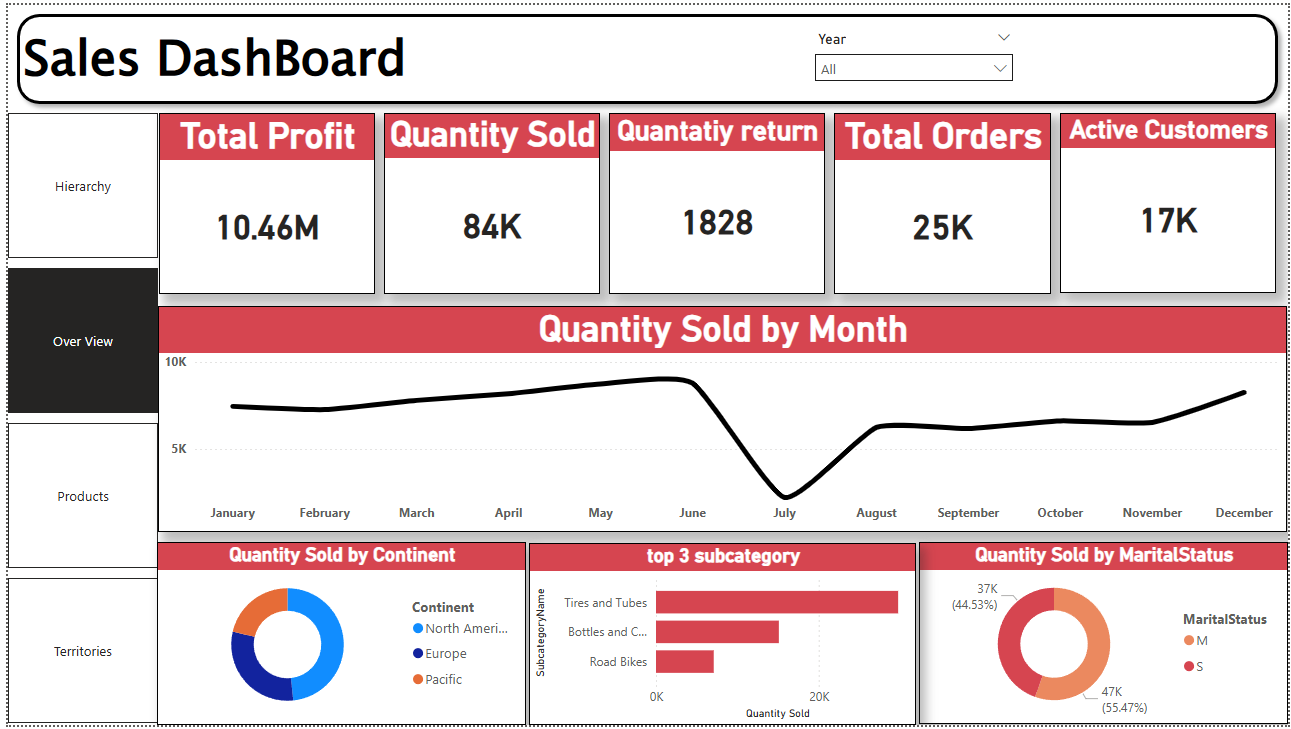

Layout of this report page (visuals, bound fields, positions):
{"tool":"powerbi","page":{"name":"Over View","canvas":[1280,720],"ordinal":1},"visuals":[{"type":"pageNavigator","box":[0,107.6,150.4,613.9],"z":0},{"type":"card","title":"Total Profit","fields":{"Values":["A Measurable Table.T.Profit"]},"box":[150.7,107.6,216.4,181],"z":1000},{"type":"card","title":"Quantity Sold","fields":{"Values":["A Measurable Table.Quantity Sold"]},"box":[376.1,107.6,216,181],"z":2000},{"type":"card","title":"Quantatiy return","fields":{"Values":["A Measurable Table.Quantity Return"]},"box":[601.1,107.6,216,181],"z":3000},{"type":"card","title":"Total Orders","fields":{"Values":["A Measurable Table.T.Orders"]},"box":[826.1,107.6,216.4,181],"z":4000},{"type":"card","title":"Active Customers","fields":{"Values":["A Measurable Table.Active Customers"]},"box":[1051.5,107.7,216,180],"z":5000},{"type":"lineChart","fields":{"Category":["Dim Calendar.Date.Variation.Date Hierarchy.Month"],"Y":["A Measurable Table.Quantity Sold"]},"box":[150.4,300.9,1128.4,226.6],"z":6000},{"type":"textbox","box":[1266.9,708,12.2,12.2],"z":7000},{"type":"shape","box":[0,0,1279.1,107.6],"z":8000},{"type":"slicer","fields":{"Values":["Dim Calendar.Date.Variation.Date Hierarchy.Year"]},"box":[797,21,218,64.3],"z":9000},{"type":"donutChart","fields":{"Y":["A Measurable Table.Quantity Sold"],"Category":["Dim Territories.Continent"]},"box":[149.2,536.8,369.3,183.4],"z":10000},{"type":"donutChart","fields":{"Y":["A Measurable Table.Quantity Sold"],"Category":["Dim Customers.MaritalStatus"]},"box":[911,536.8,369.3,182.2],"z":11000},{"type":"clusteredBarChart","title":"top 3 subcategory","fields":{"Category":["Product_Subcategories.SubcategoryName"],"Y":["A Measurable Table.Quantity Sold"]},"box":[521.3,537.8,387.1,182.4],"z":12000}]}

Visuals, with their boxes in screenshot pixels (x1, y1, x2, y2), scaled from the page's 1280x720 canvas onto the 1291x729 screenshot:
pageNavigator: bbox=[0, 109, 152, 728]
"Total Profit" card: bbox=[152, 109, 370, 292]
"Quantity Sold" card: bbox=[379, 109, 597, 292]
"Quantatiy return" card: bbox=[606, 109, 824, 292]
"Total Orders" card: bbox=[833, 109, 1051, 292]
"Active Customers" card: bbox=[1061, 109, 1278, 291]
lineChart - Dim Calendar.Date.Variation.Date Hierarchy.Month x A Measurable Table.Quantity Sold: bbox=[152, 305, 1290, 534]
textbox: bbox=[1278, 717, 1290, 728]
shape: bbox=[0, 0, 1290, 109]
slicer - Dim Calendar.Date.Variation.Date Hierarchy.Year: bbox=[804, 21, 1024, 86]
donutChart - A Measurable Table.Quantity Sold x Dim Territories.Continent: bbox=[150, 544, 523, 728]
donutChart - A Measurable Table.Quantity Sold x Dim Customers.MaritalStatus: bbox=[919, 544, 1290, 728]
"top 3 subcategory" clusteredBarChart: bbox=[526, 545, 916, 728]
